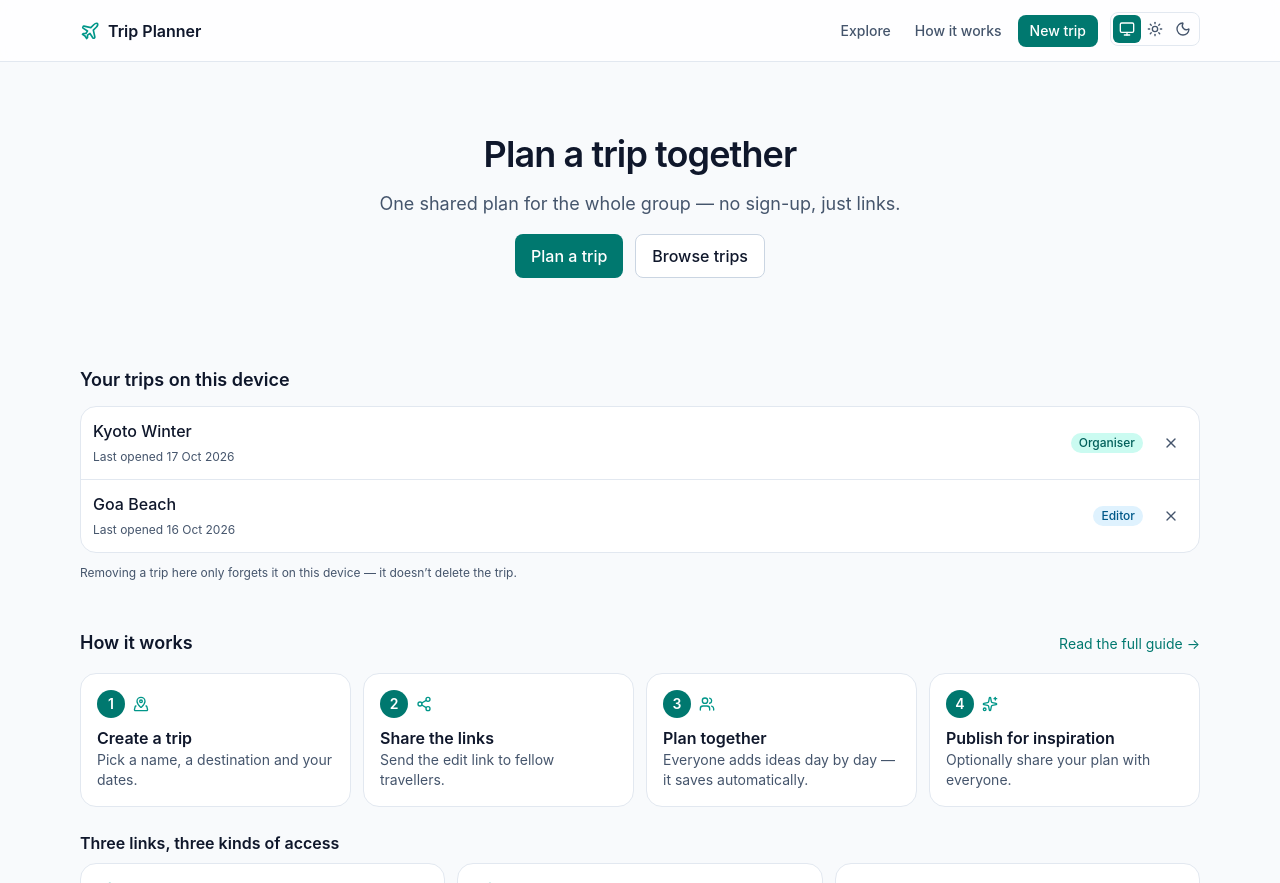
HomePage › lists trips on this device and removes them locally (AC13.1, AC13.3)
This screenshot has width=1280, height=883.
Click the button named "Remove Goa Beach from this device" at (1171, 516), box x1=1155 y1=500 x2=1187 y2=532
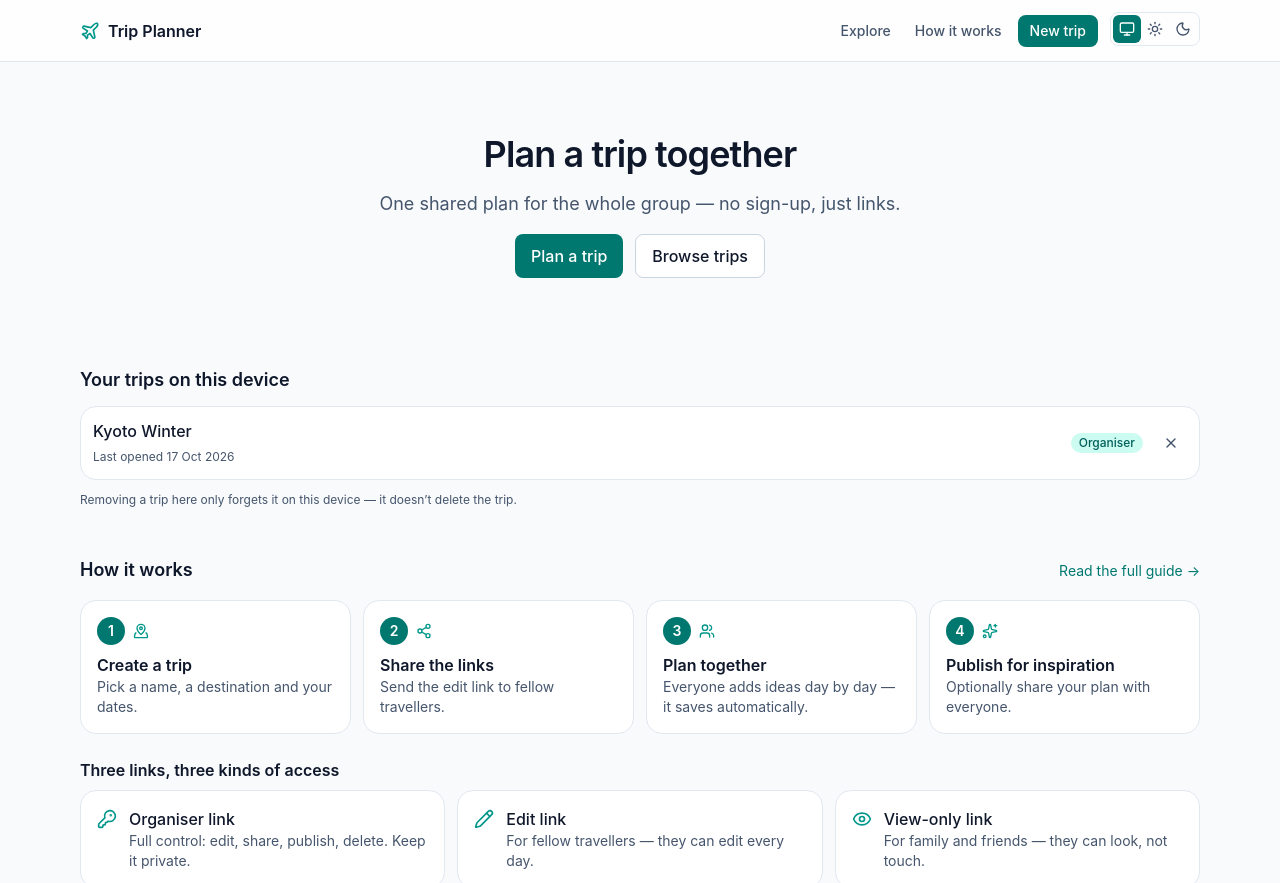
Check: the link "Goa Beach" is gone
